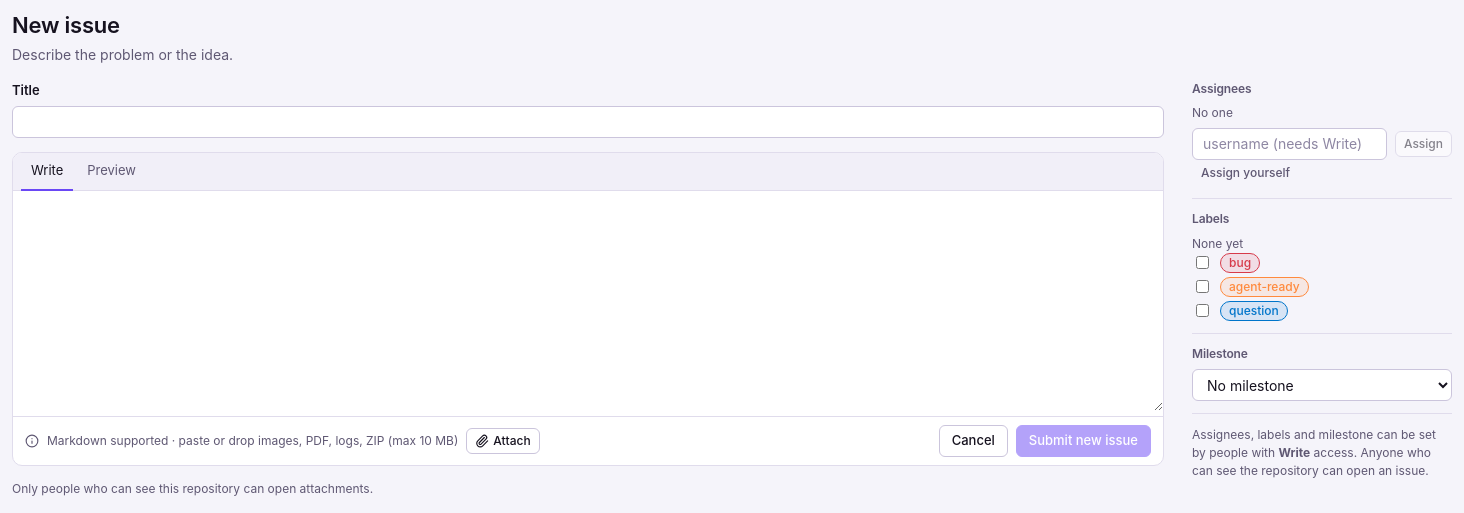
Test: NewIssuePage › suggerimenti di @menzione › filtra persone, agenti e team per prefisso e li inserisce
expect the field labelled "Title" is shown: met, box left=12, top=106, right=1164, bottom=138
Type "ciao @m" into the text box named "Description" at (588, 300), box left=13, top=190, right=1163, bottom=410
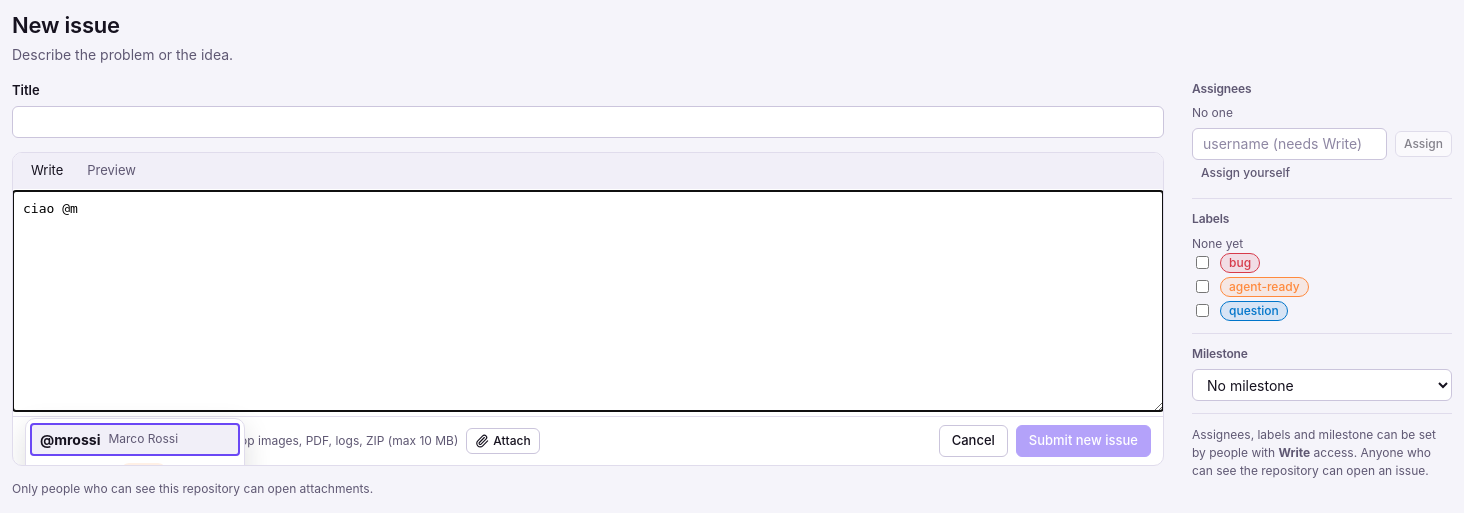
Press Arrowdown
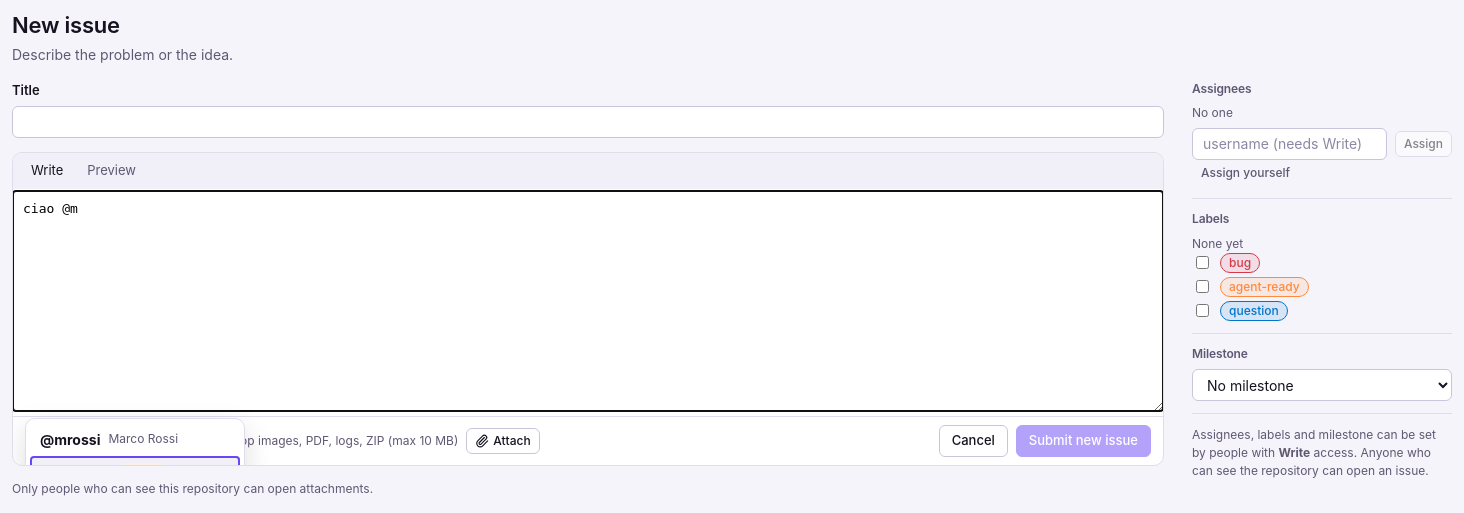
Press Enter
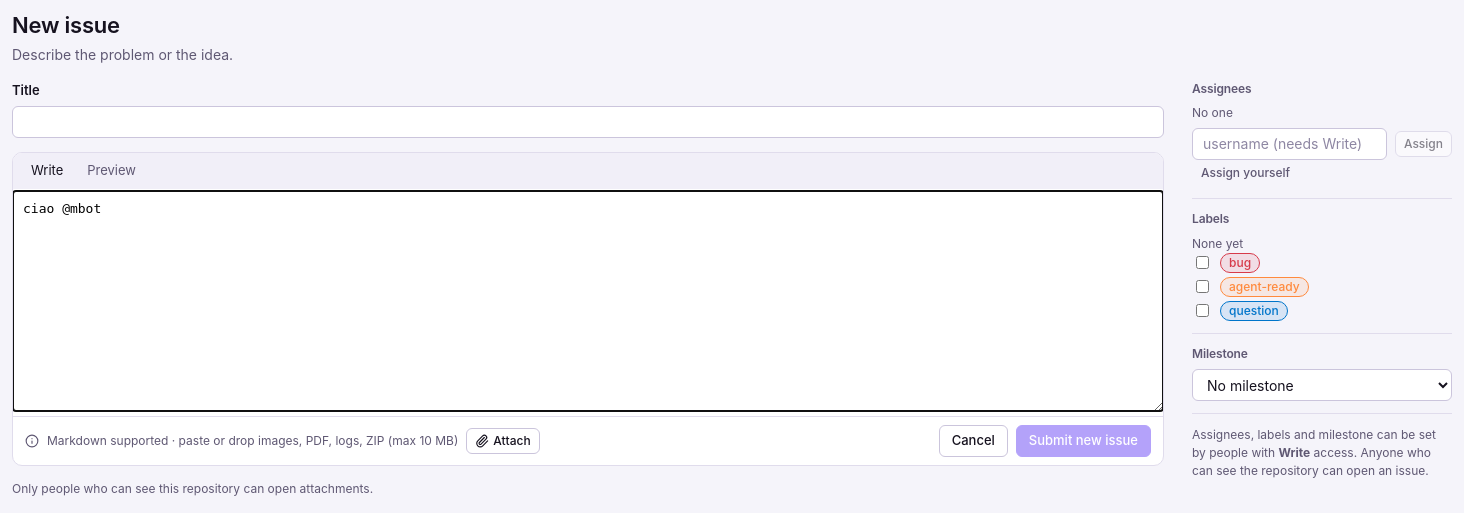
expect the text "No one" is shown: met, box left=1192, top=104, right=1233, bottom=120
expect the text box named "Description" holds "ciao @mbot ": met, box left=13, top=190, right=1163, bottom=410
